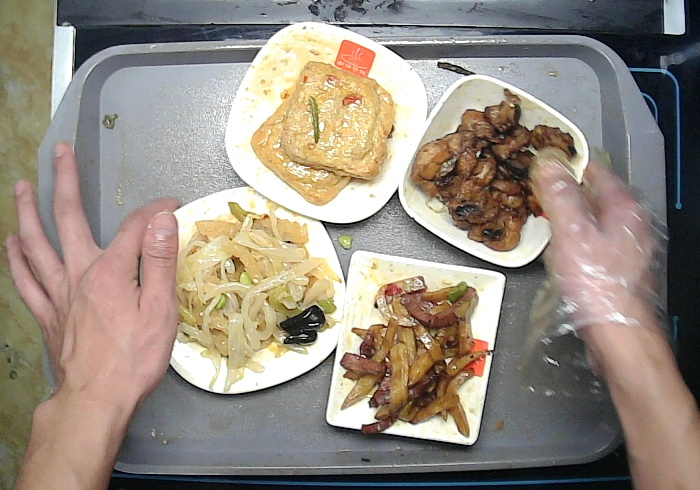SHKJ-Bai_Se_Cai_Die: (224, 20, 428, 222)
SHKJ-Bai_Se_Si_Fang_Cai_Die: (138, 183, 348, 394)
SHKJ-Bai_Se_Xiao_Fang_Die: (397, 71, 593, 270)
SHKJ-Si_Fang_Min: (323, 251, 506, 446)
